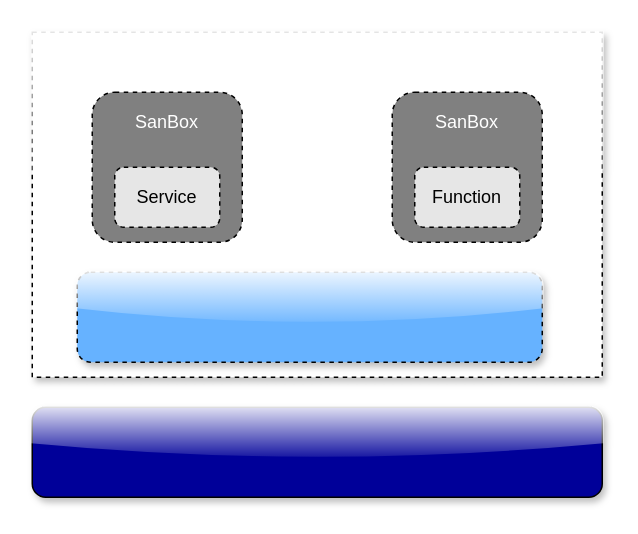
Some shapes in this 638 by 534 pixel diagram are drawn without their labels. Each missing label, with the centre of its shape:
"JVM" goes at point (318, 454).
"XXX Runtime" goes at point (310, 319).
